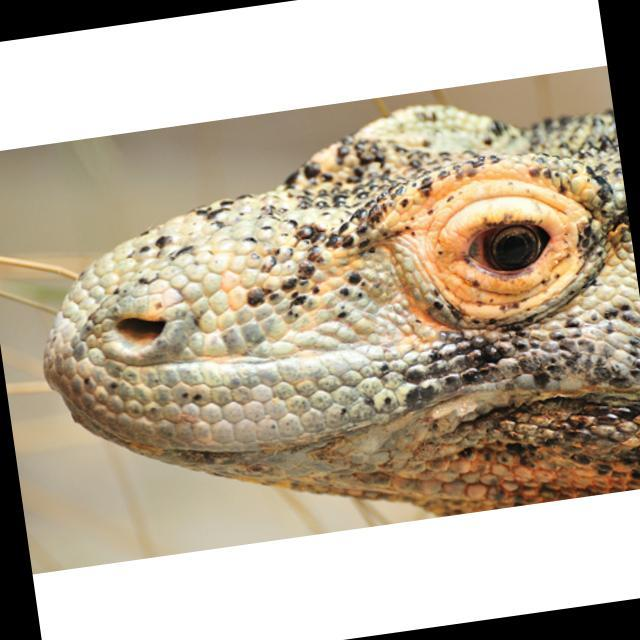KomodoDragon: (13, 75, 640, 568)
